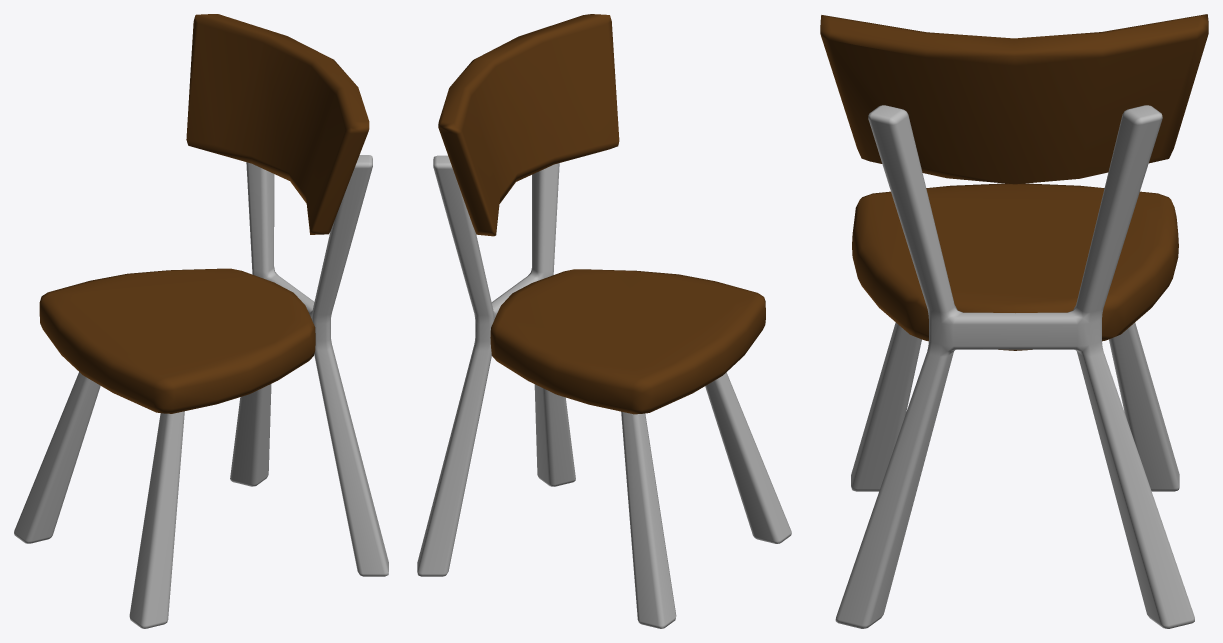
The model's file is chair_03_metal_brown.fbx.
3 renders of one model, left to right at view 1: azimuth 30°, elevation 25°; view 2: azimuth 150°, elevation 25°; view 3: azimuth 270°, elevation 25°, orthographic. The views are drawn at different scales.
Parts seen in each view (by area): view 1: chair_03_metal_brown; view 2: chair_03_metal_brown; view 3: chair_03_metal_brown.
Boxes of the visible parts, left/top/right/bottom form: chair_03_metal_brown: left=14, top=14, right=388, bottom=628; chair_03_metal_brown: left=417, top=14, right=791, bottom=628; chair_03_metal_brown: left=820, top=14, right=1208, bottom=628.
Size of the model in its own units: 58.11 by 101 by 60.72.
Materials: 2 (2 with a texture image).
